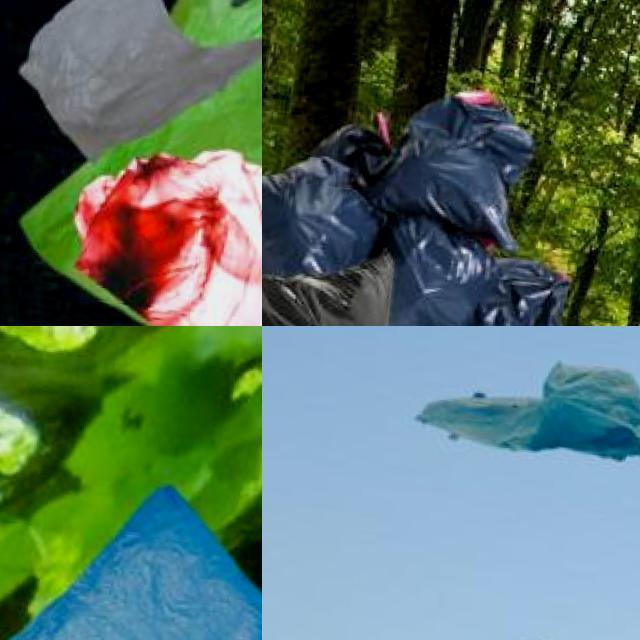waste: (0, 0, 262, 326), (0, 464, 262, 640), (21, 0, 262, 162), (412, 347, 640, 473), (373, 89, 540, 236), (262, 140, 377, 281), (359, 223, 490, 326), (466, 252, 576, 326)
